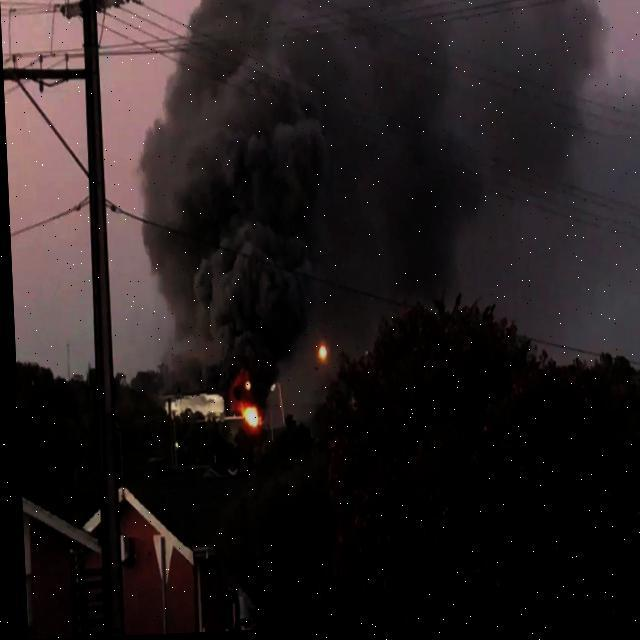Fire: (236, 398, 260, 432)
